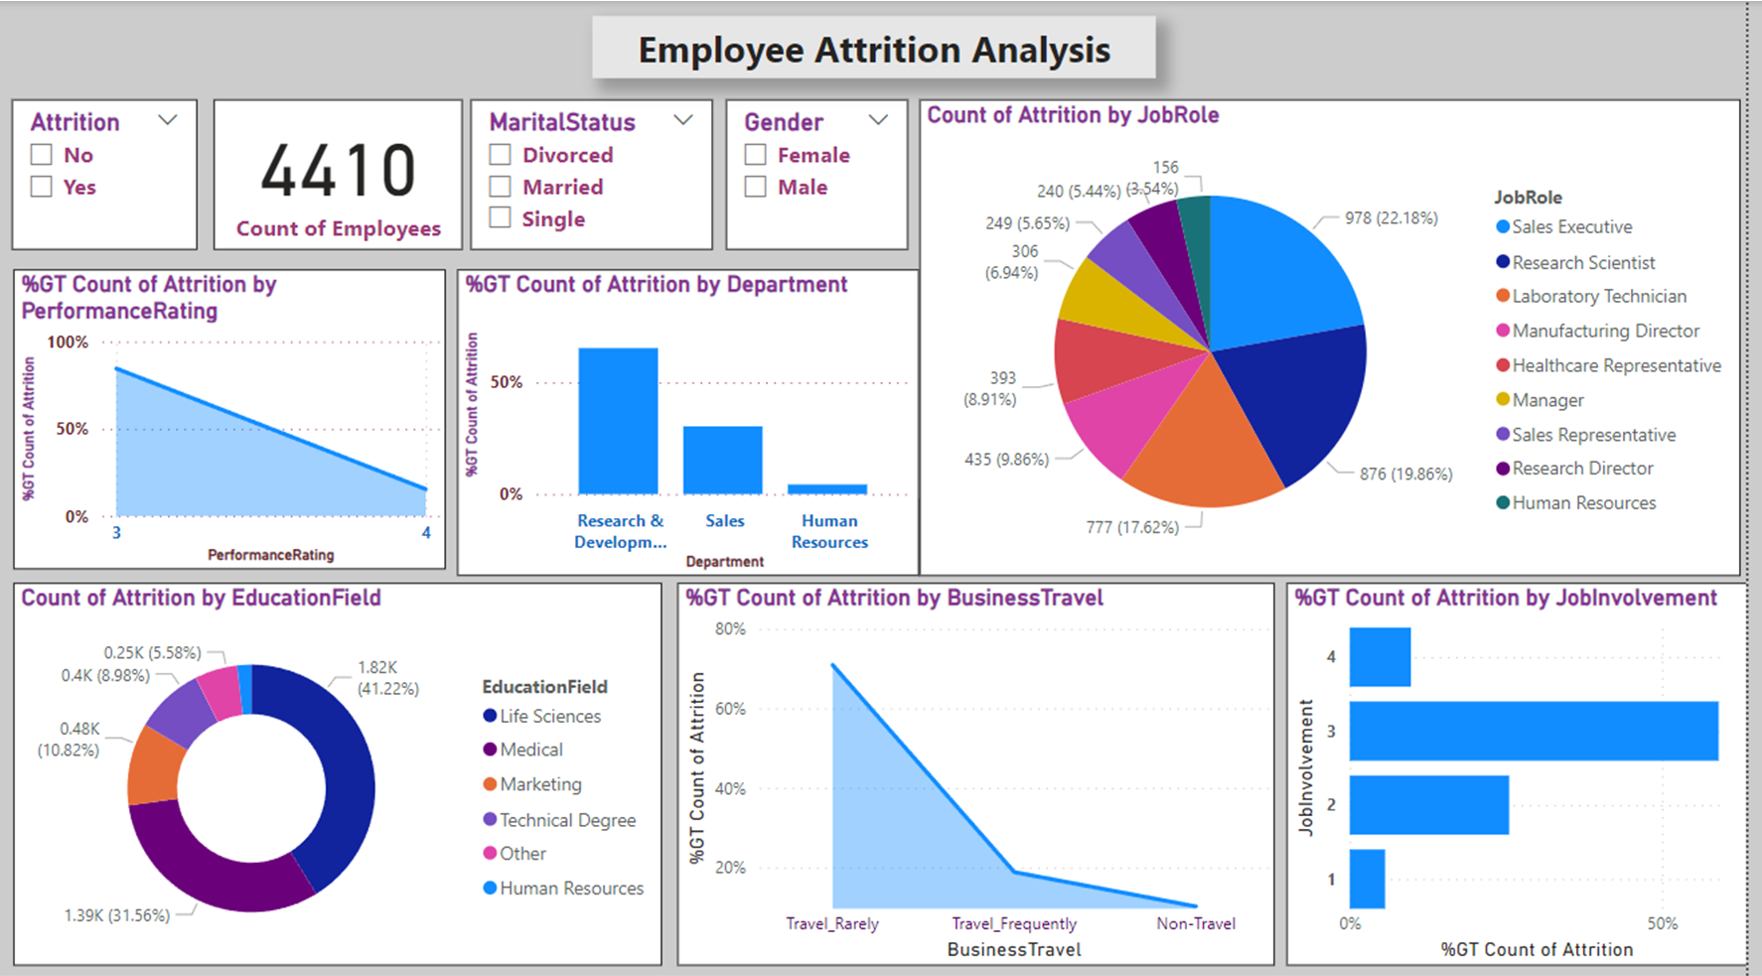

What the dashboard file says about the page in this screenshot:
{"tool":"powerbi","page":{"name":"Analysis","canvas":[1280,720],"ordinal":0},"visuals":[{"type":"slicer","fields":{"Values":["Attrition data.Gender"]},"box":[531.7,72.1,133.2,110],"z":0},{"type":"donutChart","fields":{"Category":["Attrition data.EducationField"],"Y":["CountNonNull(Attrition data.Attrition)"]},"box":[9.8,426.6,475.5,281.2],"z":1000},{"type":"slicer","fields":{"Values":["Attrition data.MaritalStatus"]},"box":[344.7,72.1,177.2,110],"z":2000},{"type":"slicer","fields":{"Values":["Attrition data.Attrition"]},"box":[8.6,72.1,135.7,110],"z":3000},{"type":"actionButton","box":[1161.3,319,100.2,40.3],"z":4000},{"type":"clusteredColumnChart","fields":{"Category":["Attrition data.Department"],"Y":["Divide(CountNonNull(Attrition data.Attrition), ScopedEval(CountNonNull(Attrition data.Attrition), []))"]},"box":[334.9,196.8,338.6,224.9],"z":5000},{"type":"card","fields":{"Values":["CountNonNull(Attrition data.EmployeeID)"]},"box":[156.5,72.1,182.1,110],"z":6000},{"type":"textbox","box":[434,11,413.2,45.2],"z":7000},{"type":"pieChart","fields":{"Category":["Attrition data.JobRole"],"Y":["CountNonNull(Attrition data.Attrition)"]},"box":[673.5,72.1,601.4,349.6],"z":8000},{"type":"areaChart","fields":{"Category":["Attrition data.PerformanceRating"],"Y":["CountNonNull(Attrition data.Attrition)"]},"box":[9.8,196.8,316.6,220],"z":9000},{"type":"areaChart","fields":{"Category":["Attrition data.BusinessTravel"],"Y":["CountNonNull(Attrition data.Attrition)"]},"box":[496.3,426.6,437.6,281.2],"z":10000},{"type":"clusteredBarChart","fields":{"Category":["Attrition data.JobInvolvement"],"Y":["CountNonNull(Attrition data.Attrition)"]},"box":[942.5,426.6,337.4,281.2],"z":11000}]}

Visuals, with their boxes in screenshot pixels (x1, y1, x2, y2), scaled from the page's 1280x720 canvas onto the 1762x976 screenshot:
slicer - Attrition data.Gender: <box>732,98,915,247</box>
donutChart - Attrition data.EducationField x CountNonNull(Attrition data.Attrition): <box>13,578,668,959</box>
slicer - Attrition data.MaritalStatus: <box>475,98,718,247</box>
slicer - Attrition data.Attrition: <box>12,98,199,247</box>
actionButton: <box>1599,432,1737,487</box>
clusteredColumnChart - Attrition data.Department x Divide(CountNonNull(Attrition data.Attrition), ScopedEval(CountNonNull(Attrition data.Attrition), [])): <box>461,267,927,572</box>
card - CountNonNull(Attrition data.EmployeeID): <box>215,98,466,247</box>
textbox: <box>597,15,1166,76</box>
pieChart - Attrition data.JobRole x CountNonNull(Attrition data.Attrition): <box>927,98,1755,572</box>
areaChart - Attrition data.PerformanceRating x CountNonNull(Attrition data.Attrition): <box>13,267,449,565</box>
areaChart - Attrition data.BusinessTravel x CountNonNull(Attrition data.Attrition): <box>683,578,1286,959</box>
clusteredBarChart - Attrition data.JobInvolvement x CountNonNull(Attrition data.Attrition): <box>1297,578,1761,959</box>
